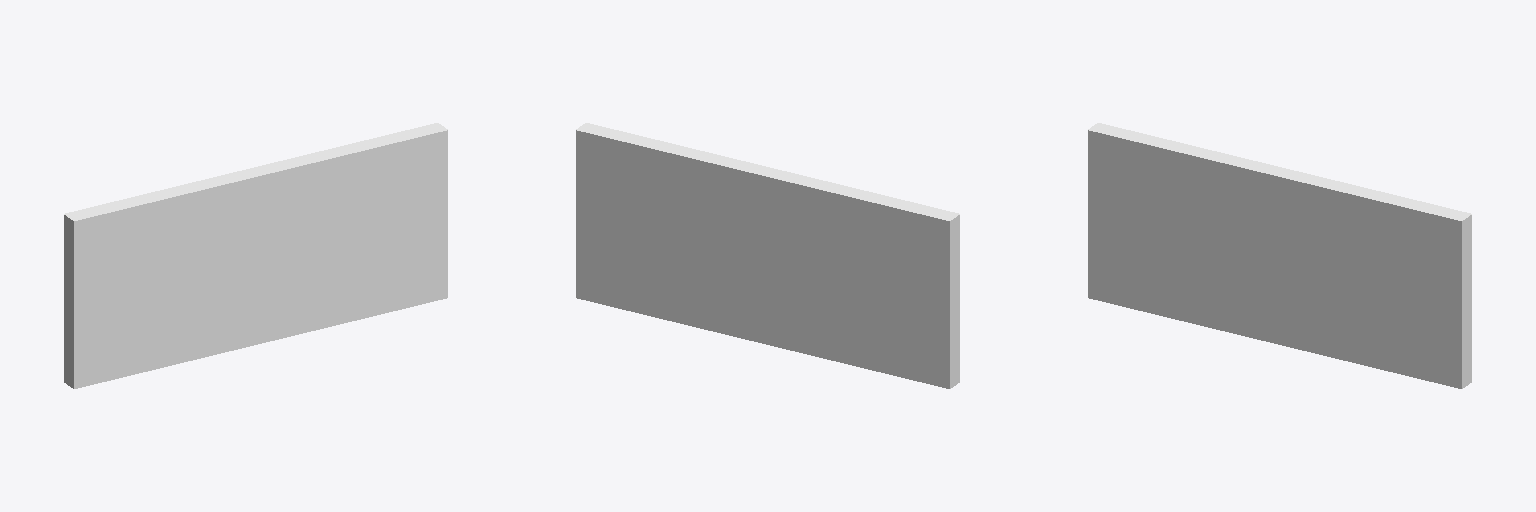
The model's file is Steven_WallDecor08.obj.
3 renders of one model, left to right at view 1: azimuth 30°, elevation 25°; view 2: azimuth 150°, elevation 25°; view 3: azimuth 330°, elevation 25°, orthographic.
Parts seen in each view (by area): view 1: Steven_WallDecor08; view 2: Steven_WallDecor08; view 3: Steven_WallDecor08.
Boxes of the visible parts, x1,y1,x2,y2 form: Steven_WallDecor08: [64, 123, 447, 388]; Steven_WallDecor08: [576, 123, 959, 388]; Steven_WallDecor08: [1088, 123, 1471, 388].
Size of the model in its own units: 21 by 9 by 1.